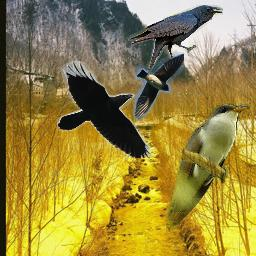Crow: (57, 60, 152, 158), (128, 5, 223, 74)
Cuckoo: (163, 103, 250, 231)
Swallow: (133, 52, 184, 121)
